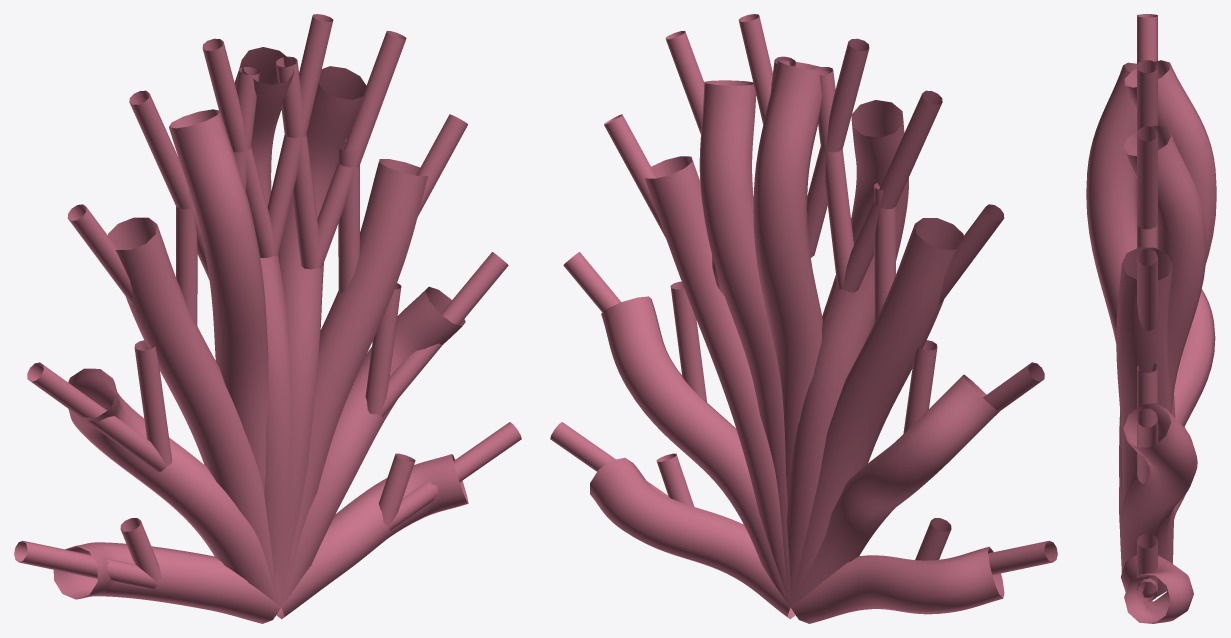
Rendered from coral.glb.
3 renders of one model, left to right at view 1: azimuth 30°, elevation 25°; view 2: azimuth 150°, elevation 25°; view 3: azimuth 270°, elevation 25°, orthographic. The views are drawn at different scales.
Visible parts, largest first — view 1: Reef_CoralBranch.005, Reef_CoralBranch.006, Reef_CoralBranch.002, Reef_CoralBranch.003, Reef_CoralBranch.007, Reef_CoralBranch.004, Reef_CoralBranch.001, Reef_CoralBranch.008, Reef_CoralBranch, Reef_CoralTwig.007, Reef_CoralTwig.009, Reef_CoralTwig.008 (+15 smaller); view 2: Reef_CoralBranch.004, Reef_CoralBranch.003, Reef_CoralBranch.006, Reef_CoralBranch.005, Reef_CoralBranch.002, Reef_CoralBranch.001, Reef_CoralBranch.007, Reef_CoralBranch, Reef_CoralBranch.008, Reef_CoralTwig.010, Reef_CoralTwig.008, Reef_CoralTwig.011 (+13 smaller); view 3: Reef_CoralBranch.005, Reef_CoralBranch.003, Reef_CoralBranch.001, Reef_CoralBranch.002, Reef_CoralBranch.004, Reef_CoralBranch.007, Reef_CoralBranch, Reef_CoralTwig.007, Reef_CoralTwig.005, Reef_CoralTwig.009, Reef_CoralTwig.003, Reef_CoralTwig.008 (+3 smaller).
Boxes of the visible parts, x1,y1,x2,y2 form: Reef_CoralBranch.005: (169, 109, 281, 605); Reef_CoralBranch.006: (108, 217, 281, 606); Reef_CoralBranch.002: (281, 159, 427, 605); Reef_CoralBranch.003: (278, 66, 366, 606); Reef_CoralBranch.007: (68, 368, 280, 606); Reef_CoralBranch.004: (234, 47, 293, 580); Reef_CoralBranch.001: (281, 286, 465, 606); Reef_CoralBranch.008: (53, 542, 281, 623); Reef_CoralBranch: (276, 454, 468, 619); Reef_CoralTwig.007: (317, 31, 406, 268); Reef_CoralTwig.009: (267, 14, 333, 255); Reef_CoralTwig.008: (202, 38, 273, 257); Reef_CoralBranch.004: (753, 60, 829, 503); Reef_CoralBranch.003: (699, 80, 790, 606); Reef_CoralBranch.006: (790, 218, 963, 606); Reef_CoralBranch.005: (786, 100, 908, 605); Reef_CoralBranch.002: (645, 156, 790, 605); Reef_CoralBranch.001: (601, 296, 790, 606); Reef_CoralBranch.007: (791, 374, 999, 606); Reef_CoralBranch: (590, 457, 795, 619); Reef_CoralBranch.008: (790, 546, 1004, 623); Reef_CoralTwig.010: (842, 90, 942, 292); Reef_CoralTwig.008: (807, 38, 869, 257); Reef_CoralTwig.011: (813, 67, 853, 289); Reef_CoralBranch.005: (1086, 62, 1175, 554); Reef_CoralBranch.003: (1119, 125, 1206, 518); Reef_CoralBranch.001: (1120, 403, 1197, 597); Reef_CoralBranch.002: (1116, 247, 1173, 563); Reef_CoralBranch.004: (1119, 60, 1216, 434); Reef_CoralBranch.007: (1119, 289, 1215, 528); Reef_CoralBranch: (1121, 555, 1193, 623); Reef_CoralTwig.007: (1137, 126, 1157, 229); Reef_CoralTwig.005: (1137, 249, 1157, 330); Reef_CoralTwig.009: (1137, 60, 1157, 131); Reef_CoralTwig.003: (1137, 408, 1157, 483); Reef_CoralTwig.008: (1137, 14, 1157, 64).
Bounding box in the file's own units: 1.83 × 2.05 × 0.4335.
